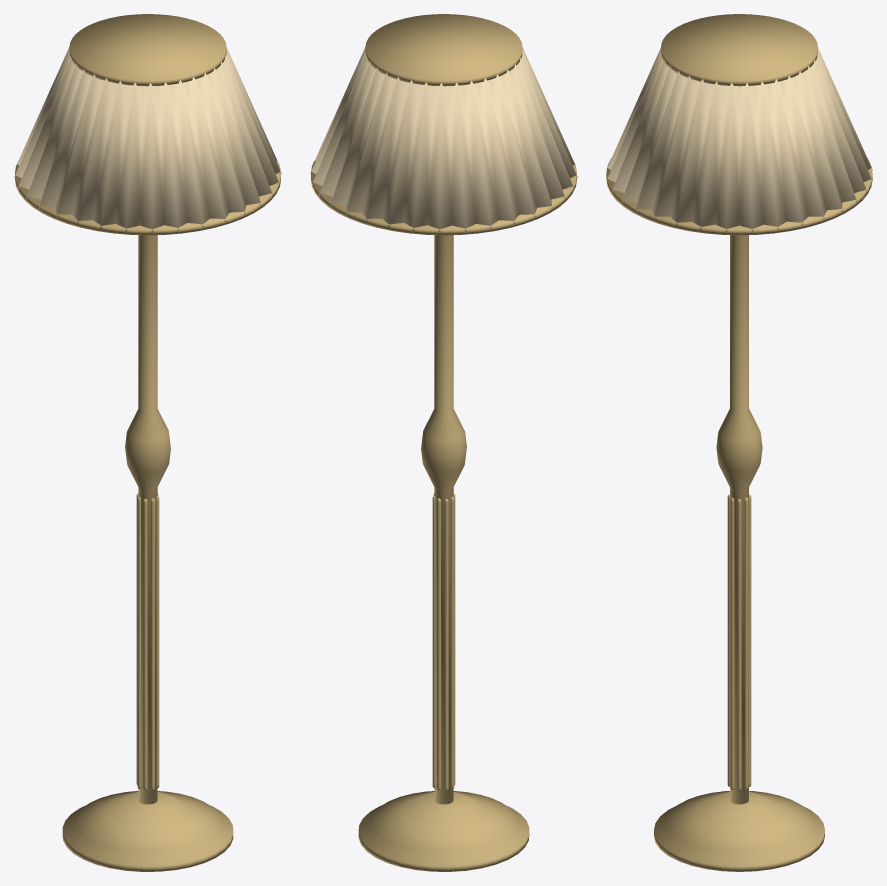
Rendered from lamp_floor.glb.
3 views of the same model, side by side, from view 1: azimuth 30°, elevation 25°; view 2: azimuth 150°, elevation 25°; view 3: azimuth 270°, elevation 25° (orthographic).
Parts seen in each view (by area): view 1: lamp_floor; view 2: lamp_floor; view 3: lamp_floor.
Boxes of the visible parts, left/top/right/bottom form: lamp_floor: left=14, top=14, right=281, bottom=871; lamp_floor: left=310, top=14, right=577, bottom=871; lamp_floor: left=606, top=14, right=872, bottom=871.
Bounding box in the file's own units: 0.4981 × 1.63 × 0.4981.
